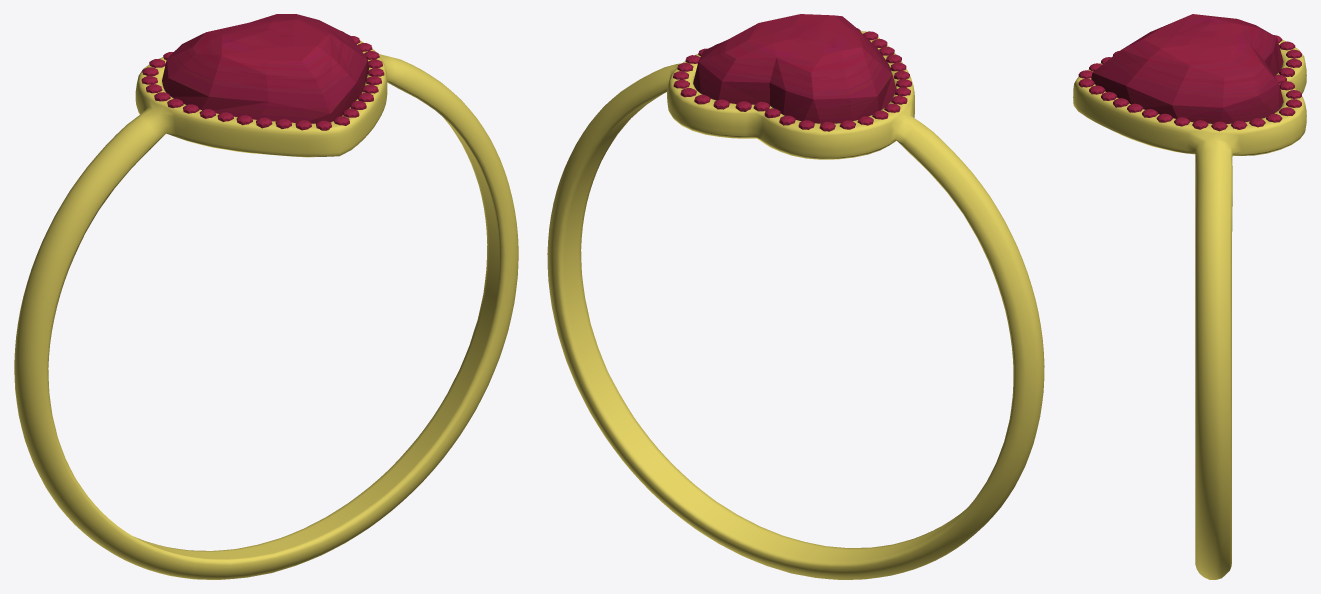
Rendered from Ring.fbx.
3 renders of one model, left to right at view 1: azimuth 30°, elevation 25°; view 2: azimuth 150°, elevation 25°; view 3: azimuth 270°, elevation 25°, orthographic. The views are drawn at different scales.
Parts seen in each view (by area): view 1: Ring; view 2: Ring; view 3: Ring.
Part boxes in pixels (x1,y1,x2,y2): Ring: (14, 14, 518, 579); Ring: (547, 14, 1044, 579); Ring: (1073, 14, 1306, 579).
Size of the model in its own units: 1.26 by 1.31 by 0.5344.
1 material, 1 textured.
